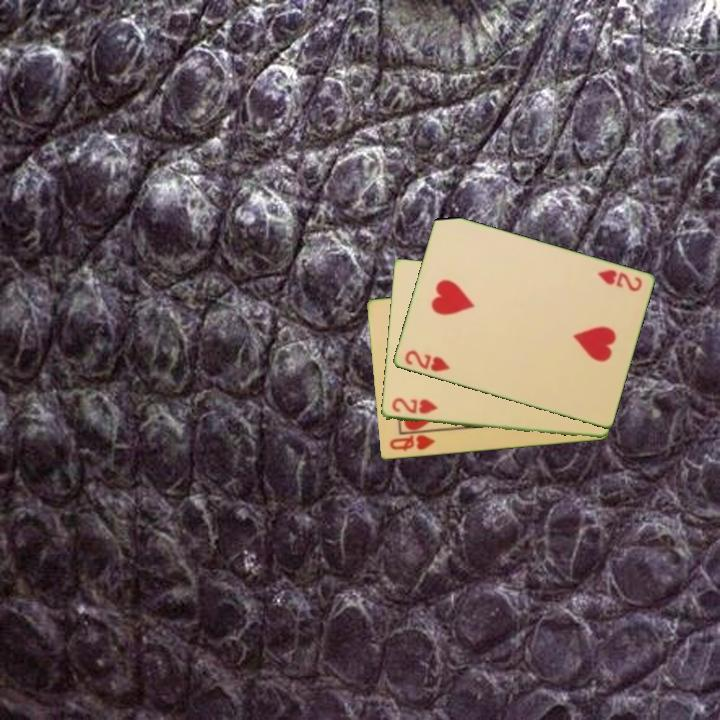2h: (594, 266, 645, 295), (401, 347, 452, 375), (388, 395, 440, 417)
Qh: (386, 432, 438, 454)
